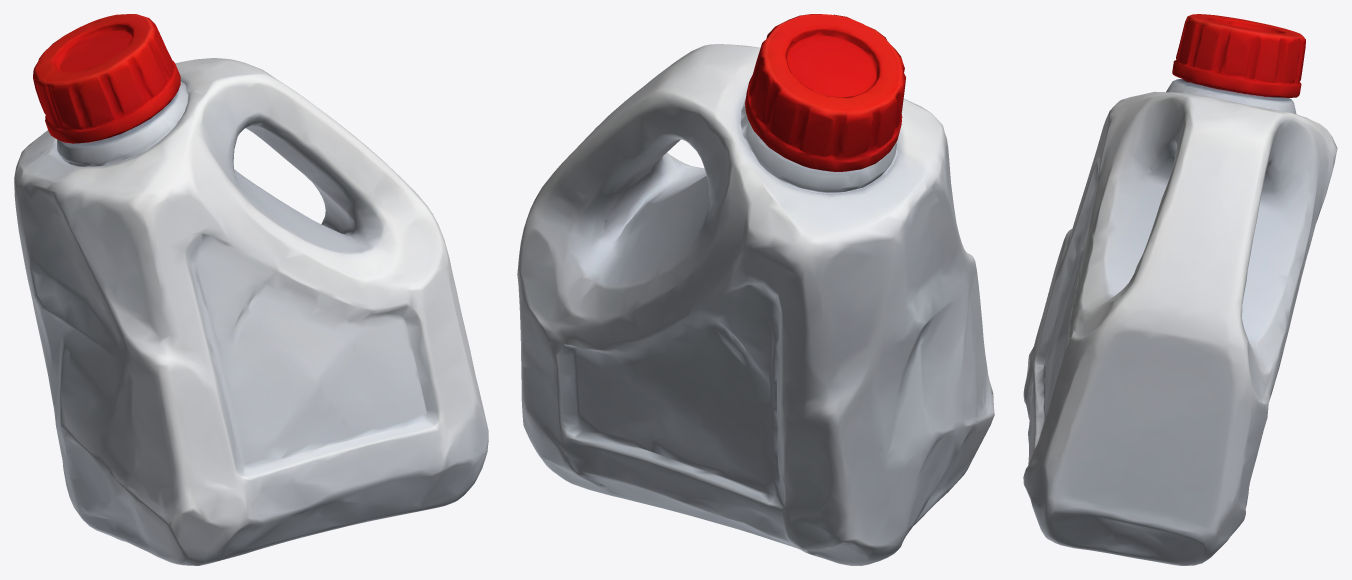
The model's file is PlasticGallon.fbx.
3 renders of one model, left to right at view 1: azimuth 30°, elevation 25°; view 2: azimuth 150°, elevation 25°; view 3: azimuth 270°, elevation 25°, orthographic. The views are drawn at different scales.
Visible parts, largest first — view 1: tripo_node_09d059c9; view 2: tripo_node_09d059c9; view 3: tripo_node_09d059c9.
Part boxes in pixels (x1,y1,x2,y2): tripo_node_09d059c9: [14, 14, 488, 565]; tripo_node_09d059c9: [517, 14, 994, 565]; tripo_node_09d059c9: [1023, 14, 1337, 565].
Size of the model in its own units: 0.7892 by 1 by 0.6409.
